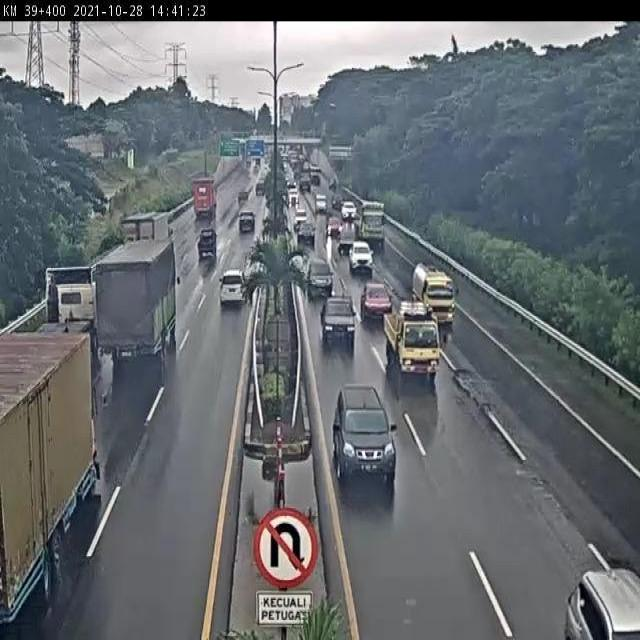big truck: (18, 263, 101, 373)
car: (330, 385, 398, 487), (320, 296, 356, 349), (360, 283, 393, 321), (306, 257, 333, 295), (218, 269, 248, 303), (349, 242, 373, 274), (197, 228, 217, 259)
mid truck: (0, 333, 102, 623), (94, 238, 179, 358), (120, 212, 173, 265)
truck-m-: (383, 293, 441, 380), (412, 261, 456, 328)
